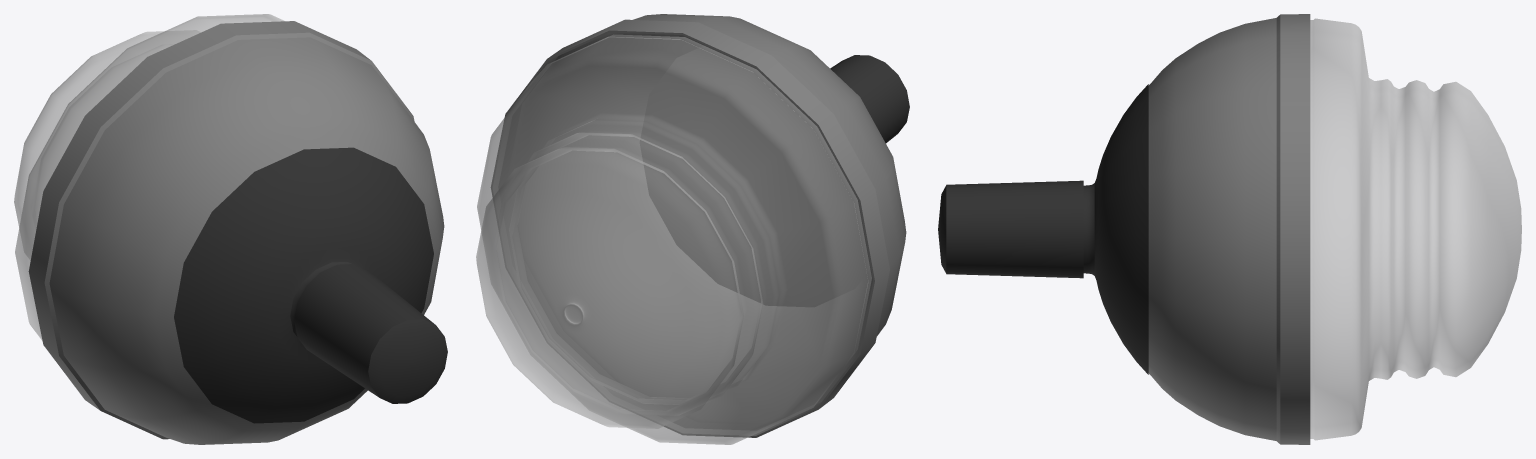
File: Agora.obj
3 views of the same model, side by side, from view 1: azimuth 30°, elevation 25°; view 2: azimuth 150°, elevation 25°; view 3: azimuth 270°, elevation 25° (orthographic). The views are drawn at different scales.
Visible parts, largest first — view 1: BezierCurve.002_BezierCurve.004, Glas.001_BezierCurve.003; view 2: BezierCurve.002_BezierCurve.004, Glas.001_BezierCurve.003; view 3: BezierCurve.002_BezierCurve.004, Glas.001_BezierCurve.003.
Part boxes in pixels (x1,y1,x2,y2): BezierCurve.002_BezierCurve.004: (28,21,447,444); Glas.001_BezierCurve.003: (14,14,284,340); BezierCurve.002_BezierCurve.004: (491,14,909,437); Glas.001_BezierCurve.003: (476,34,871,444); BezierCurve.002_BezierCurve.004: (938,14,1310,444); Glas.001_BezierCurve.003: (1310,18,1521,440).
Size of the model in its own units: 0.45 by 0.45 by 0.6091.
Materials: 3 (2 with a texture image).
